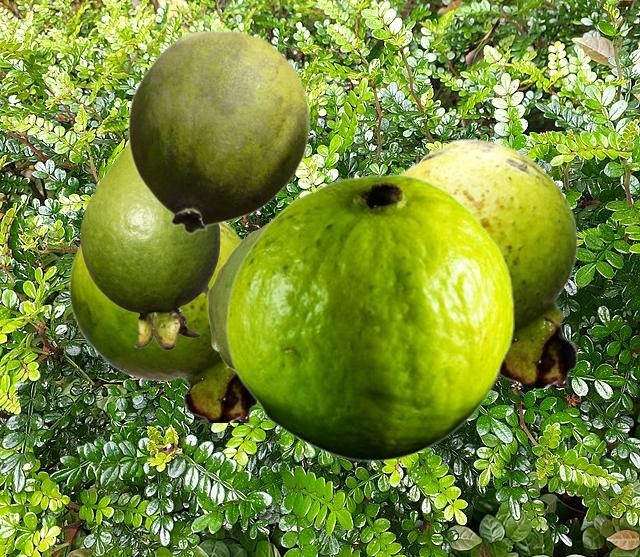guava: (225, 174, 513, 461), (398, 138, 578, 386), (68, 223, 257, 421), (127, 29, 310, 233), (80, 143, 219, 349), (207, 223, 267, 369)
